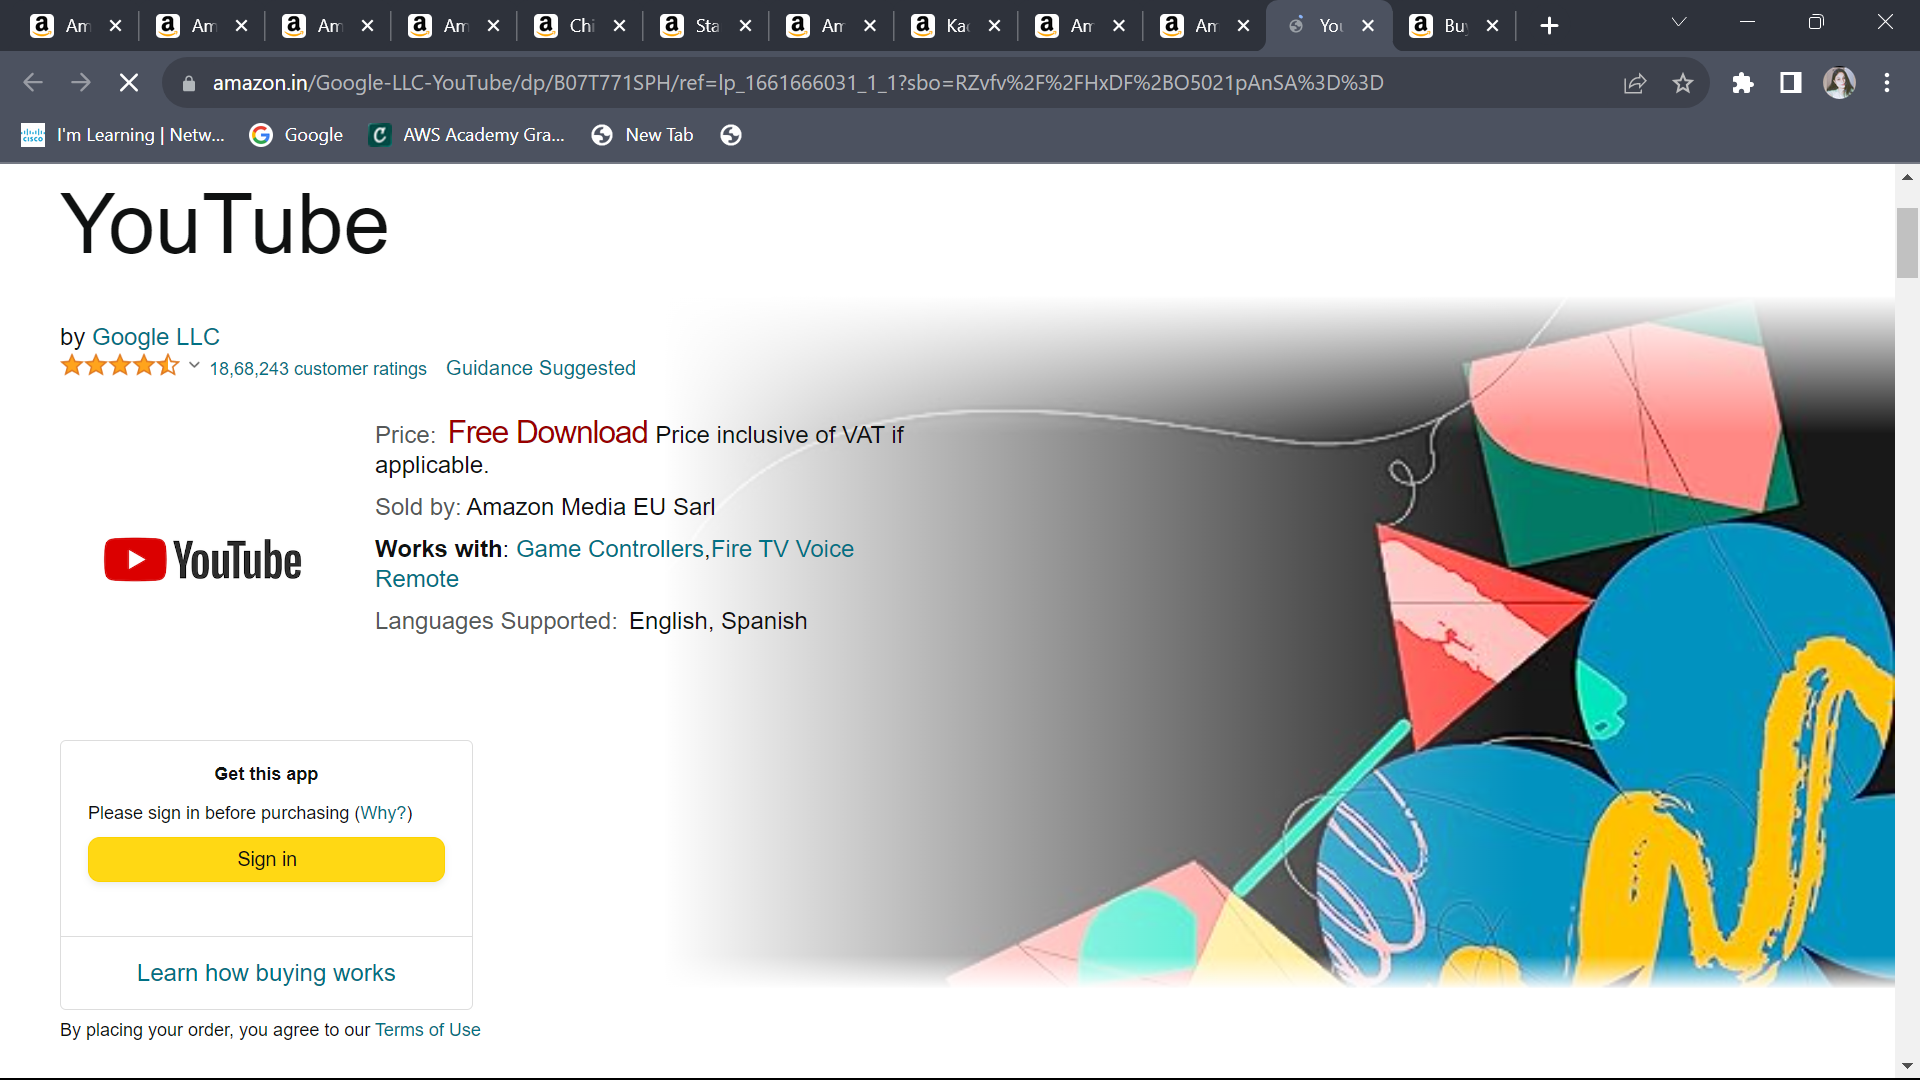Image: (968, 302, 1884, 1013), (80, 836, 481, 890)
Paragraph: (47, 319, 669, 394), (376, 406, 938, 481), (47, 185, 421, 284), (54, 498, 310, 603), (376, 538, 860, 588), (371, 612, 857, 657), (352, 484, 798, 526), (54, 1021, 510, 1060), (63, 786, 425, 829), (140, 956, 411, 992), (113, 765, 355, 794)
